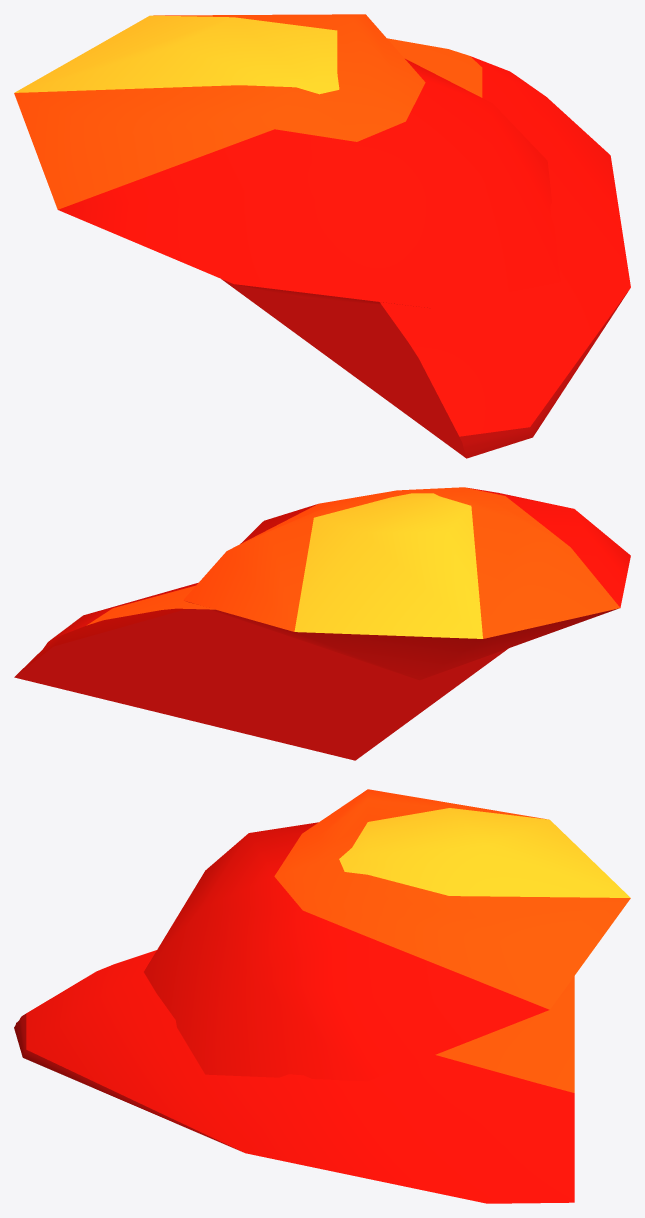
Rendered from shot_zflame_235.glb.
The picture shows the model from 3 angles, top to bottom: view 1: azimuth 30°, elevation 25°; view 2: azimuth 150°, elevation 25°; view 3: azimuth 270°, elevation 25°; orthographic projection. The views are drawn at different scales.
Parts seen in each view (by area): view 1: zflame_6_billow3_b235, zflame_6_bed_b235; view 2: zflame_6_billow3_b235, zflame_6_bed_b235; view 3: zflame_6_billow3_b235, zflame_6_bed_b235.
Boxes of the visible parts, x1,y1,x2,y2 form: zflame_6_billow3_b235: (14,14,560,308); zflame_6_bed_b235: (221,38,630,458); zflame_6_billow3_b235: (183,487,630,680); zflame_6_bed_b235: (14,582,508,760); zflame_6_billow3_b235: (144,789,630,1081); zflame_6_bed_b235: (14,950,574,1203).
Bounding box in the file's own units: 7.48 × 2.7 × 7.46.
